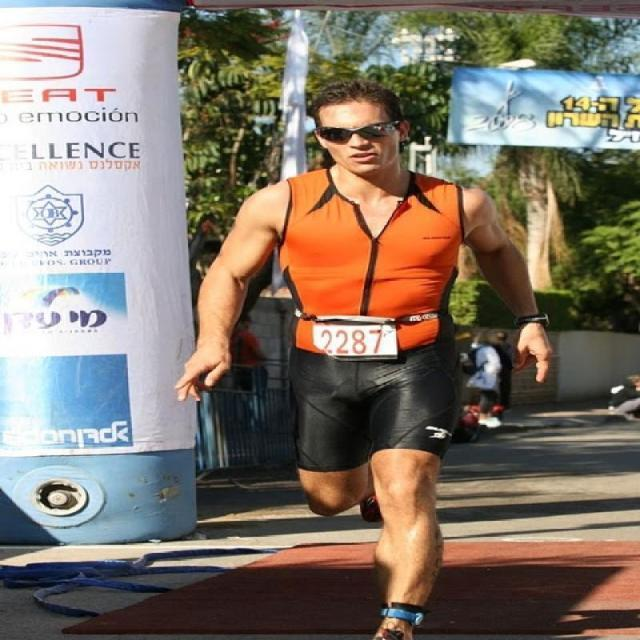dorsal: (304, 321, 414, 364)
